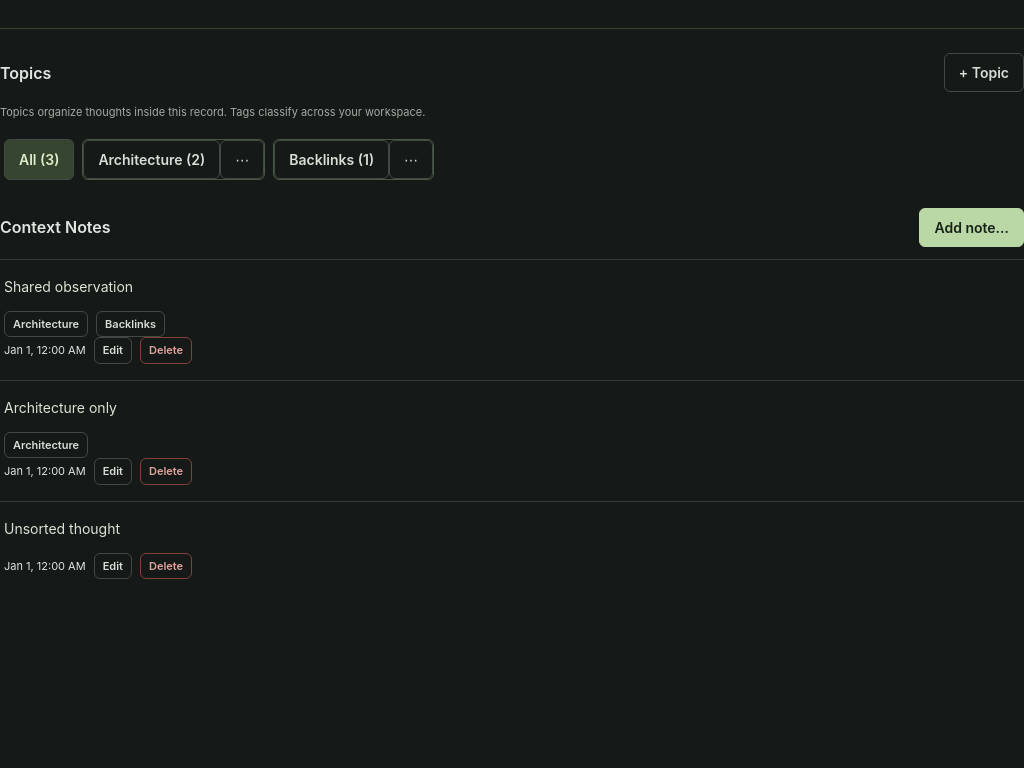
Test case: create then rename a Topic and edit its description
Expected: the text "Shared observation" is shown, [4,278,133,294]
Click the button "+ Topic".
click(984, 72)  # box [944,53,1023,92]
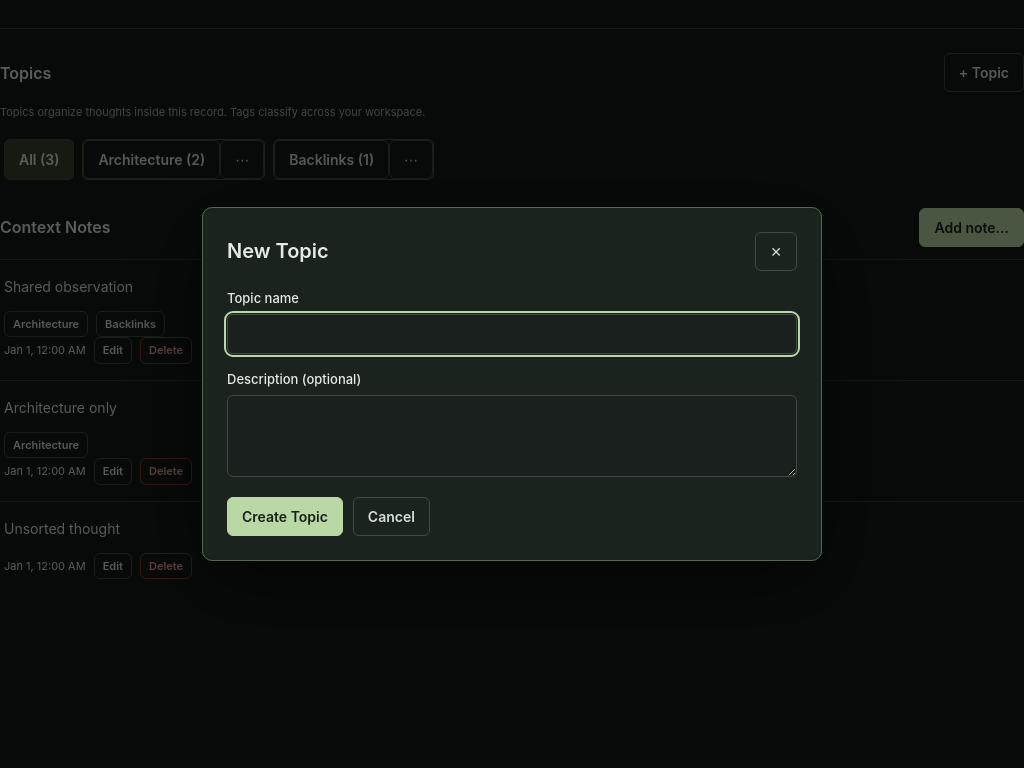
Type "Research" into the field labelled "Topic name".
click(512, 334); type("Research")  # box [227,314,797,354]
Click the button "Create Topic".
click(285, 517)  # box [227,497,343,536]
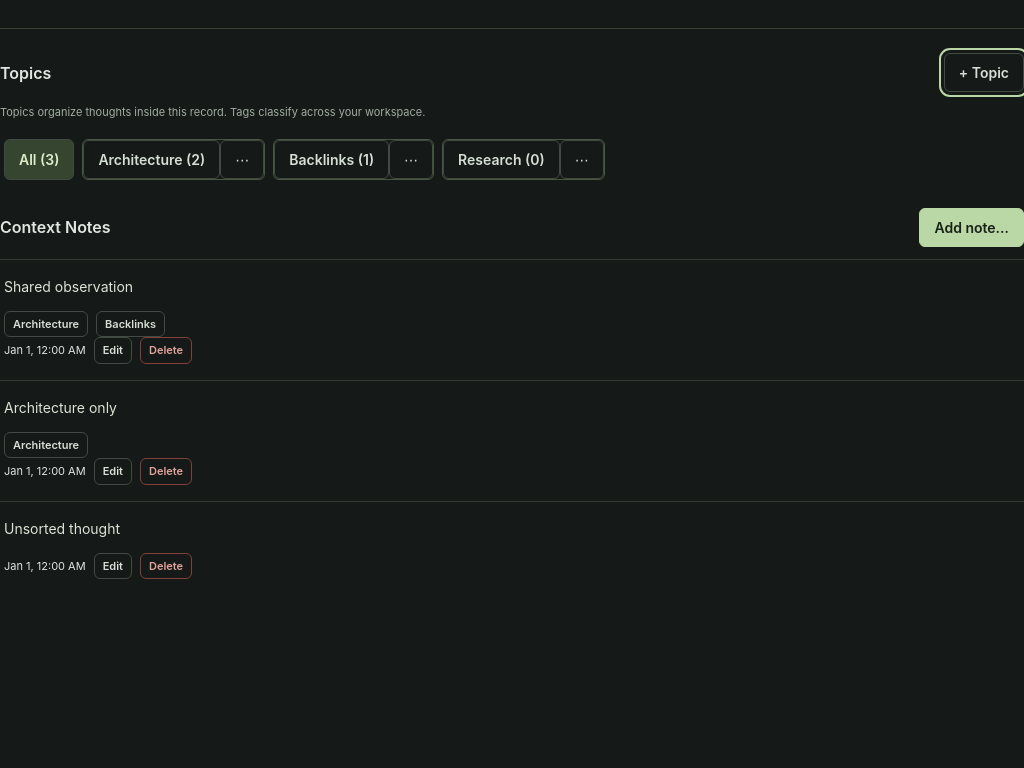
Click the button named "Manage topic Research".
click(582, 159)  # box [560,140,604,178]
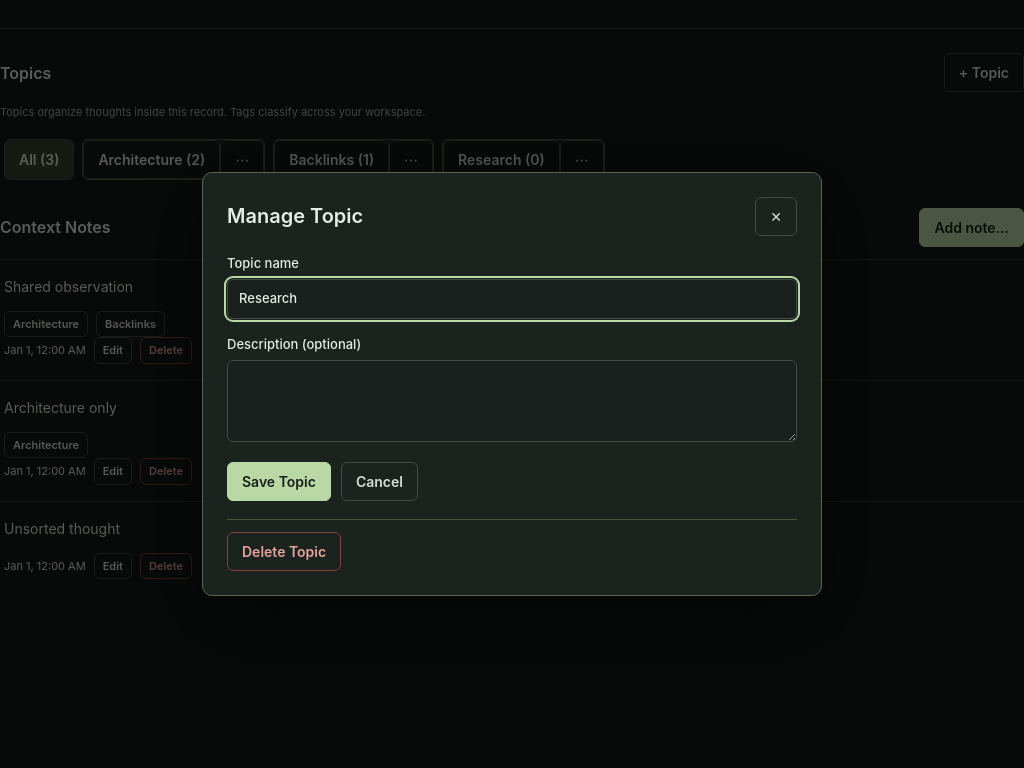
Replace the text in the field labelled "Topic name" with "Evidence" at (512, 299), box [227,279,797,318]
Type "Sources to compare" into the text box labelled "Description (optional)".
click(512, 401); type("Sources to compare")  # box [227,360,797,442]
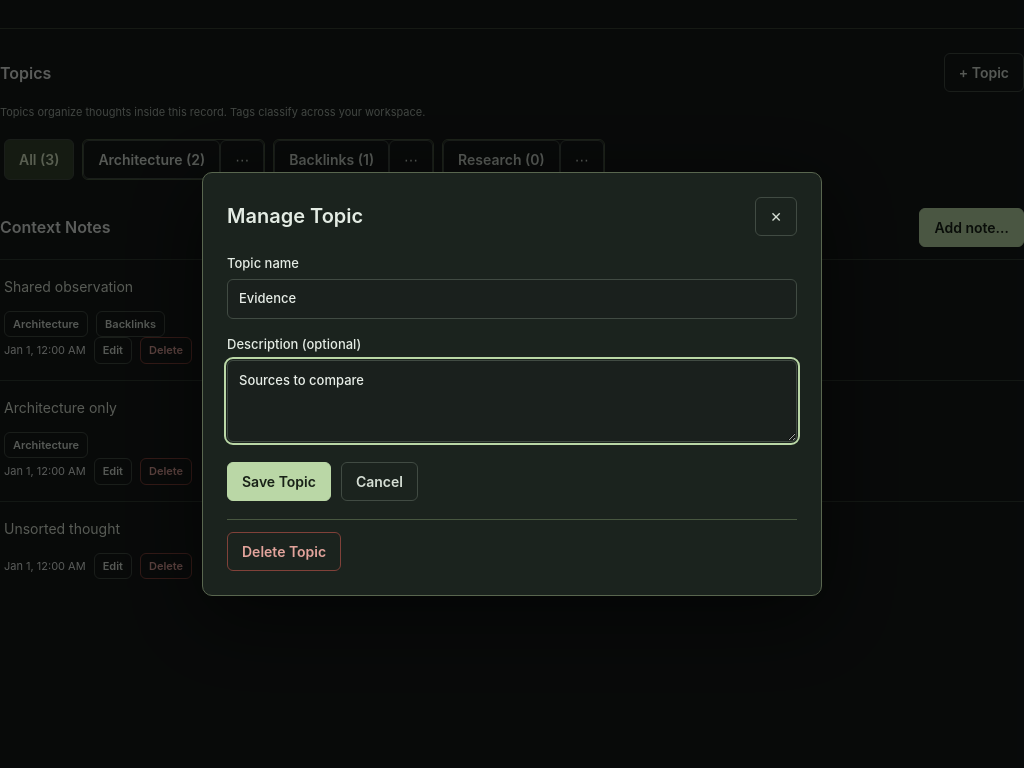
Click the button "Save Topic".
click(279, 482)  # box [227,462,331,501]
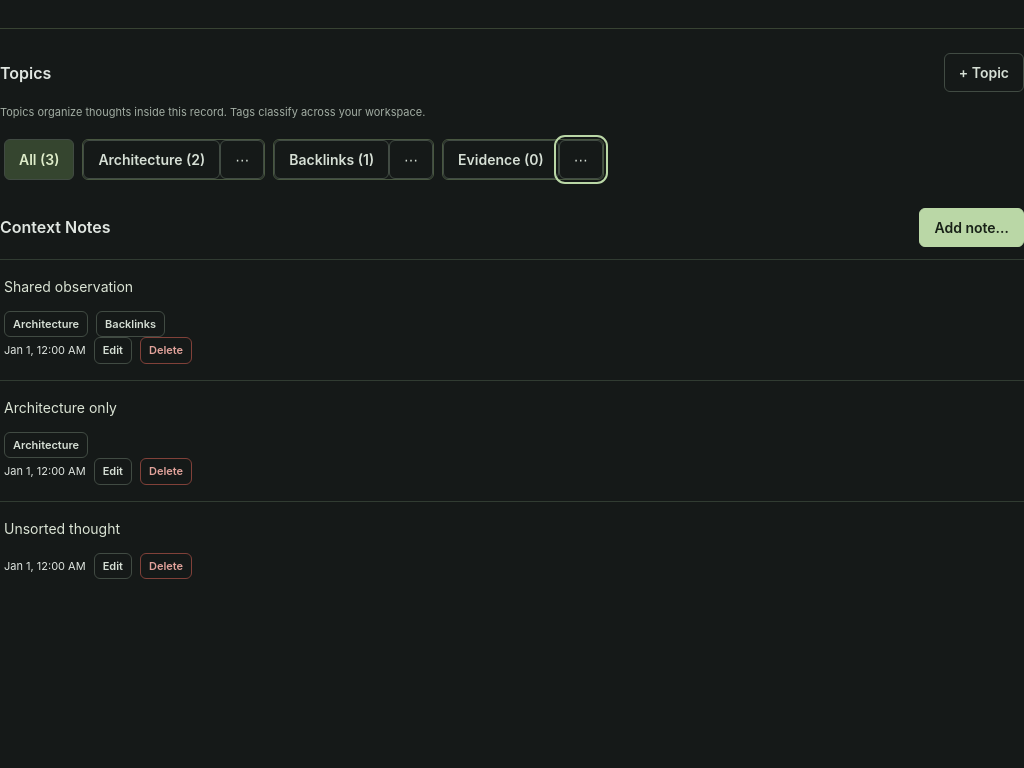
Click the button "Evidence (0)".
click(501, 159)  # box [443,140,559,178]
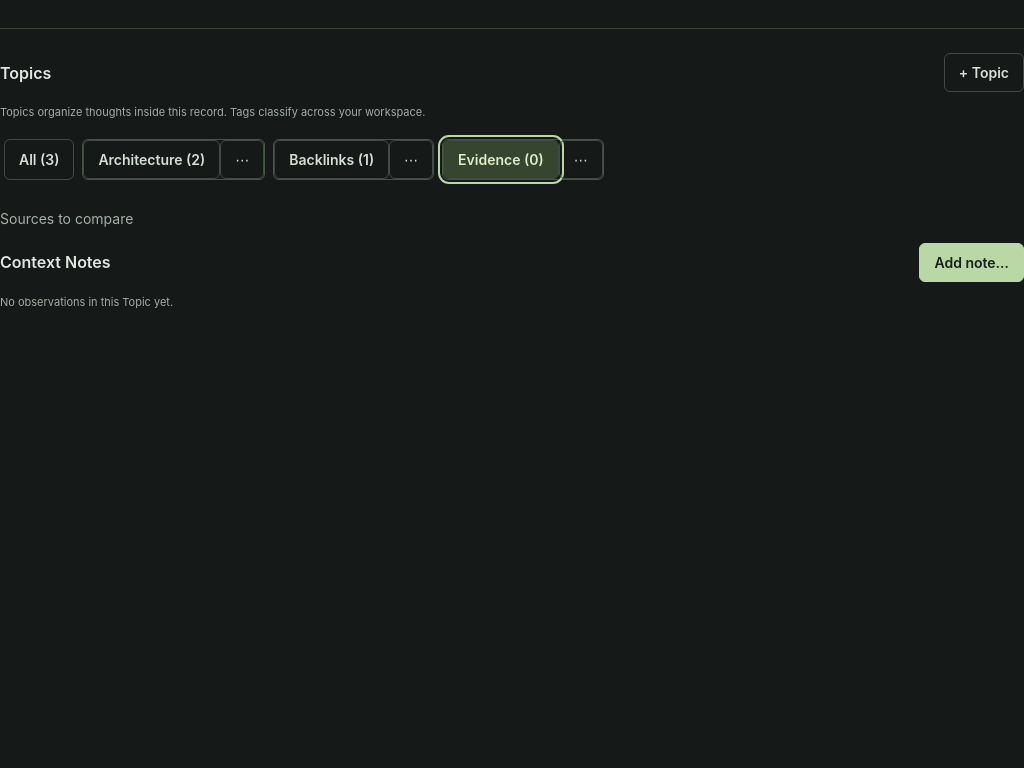
Result: the text "Sources to compare" is shown at [0,210,133,226]
